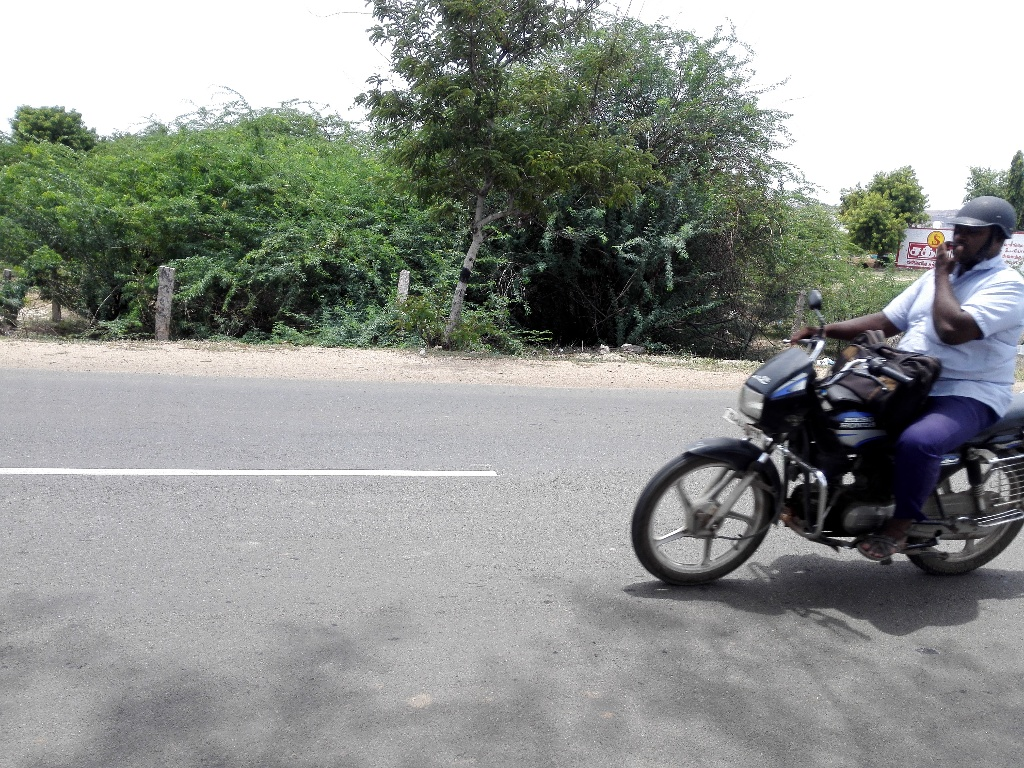biker: (617, 161, 1024, 615)
helmet: (943, 183, 1021, 290)
